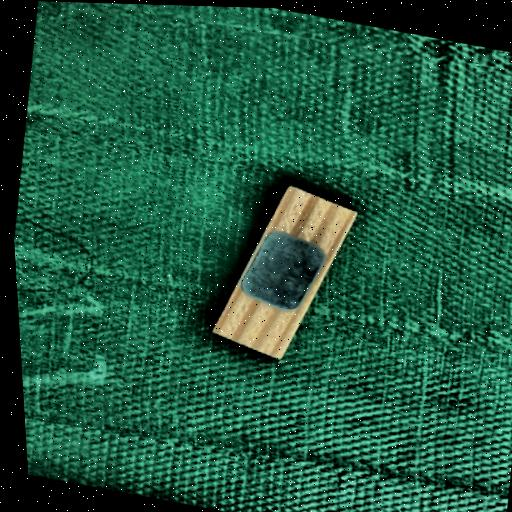objects: (212, 178, 358, 365)
